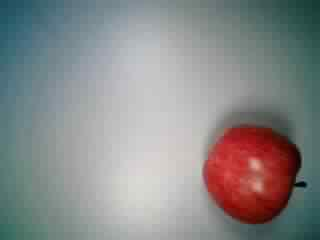apple: (201, 119, 304, 223)
